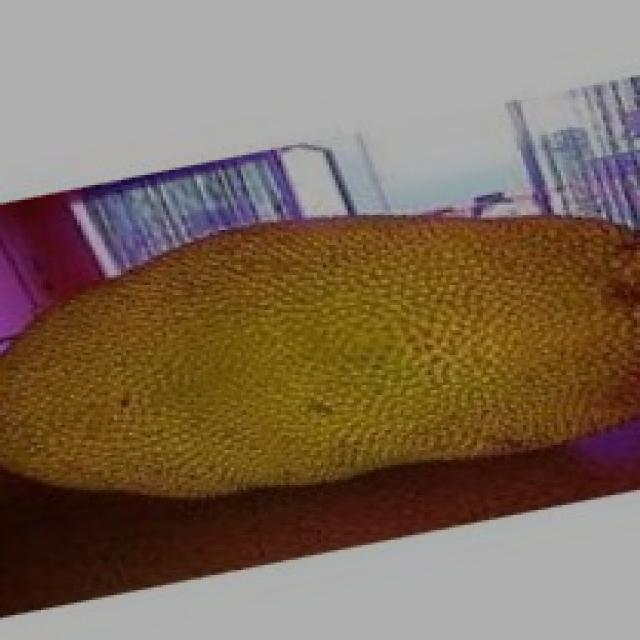Fruit: (0, 180, 400, 555), (234, 175, 640, 527)
